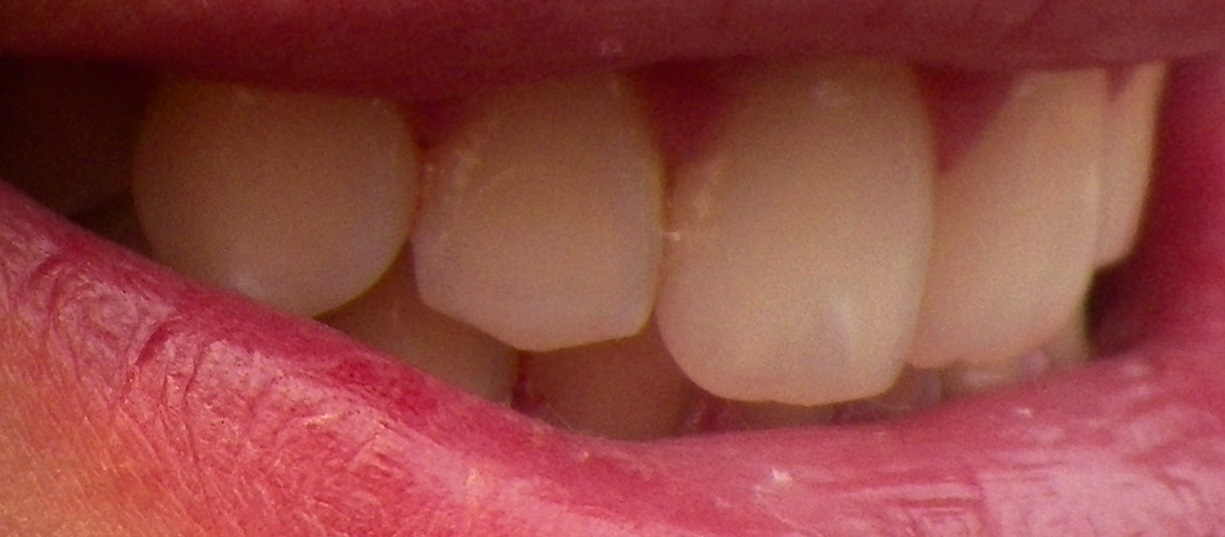boca: (34, 53, 1170, 411)
